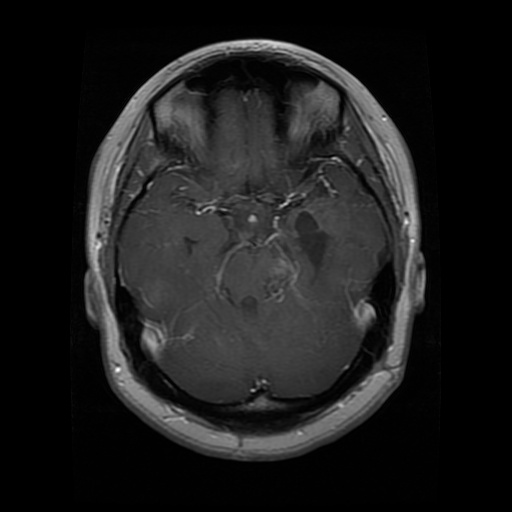glioma: (254, 204, 334, 301)
